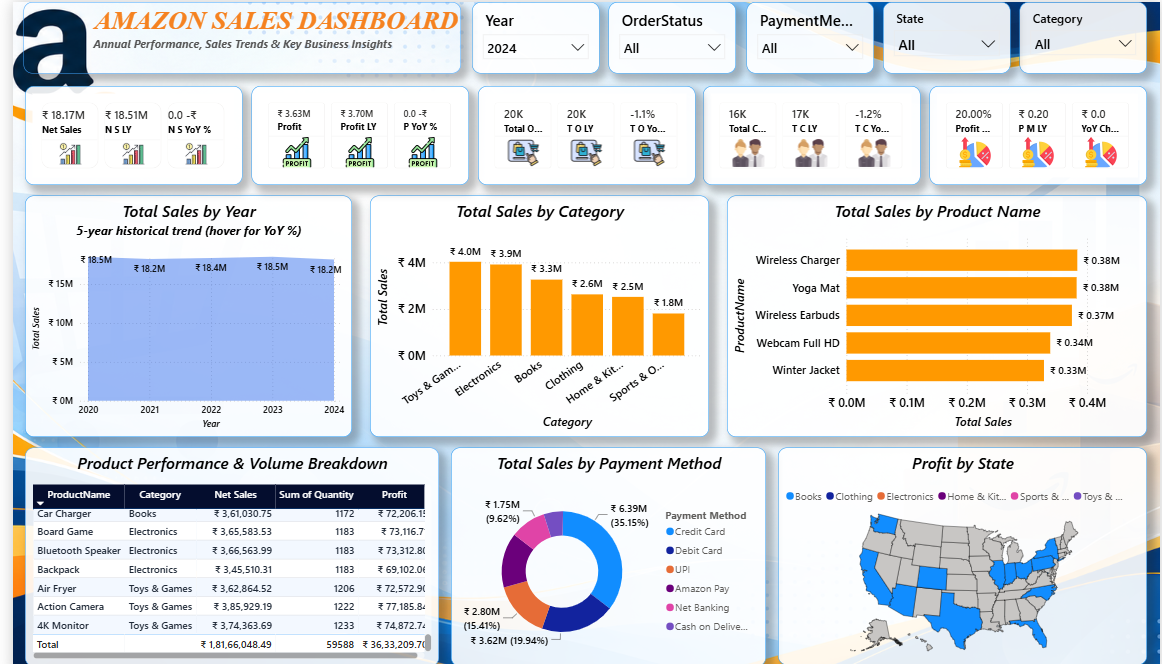

Layout of this report page (visuals, bound fields, positions):
{"tool":"powerbi","page":{"name":"Amazon Sales Dashboard","canvas":[1530,900],"ordinal":0},"visuals":[{"type":"shape","title":"AMAZON SALES DASHBOARD","box":[14,0,583,95],"z":0,"group":"g1"},{"type":"slicer","fields":{"Values":["DimDate.Year"]},"box":[612,0,170,95],"z":0},{"type":"slicer","fields":{"Values":["DimOrderStatus.OrderStatus"]},"box":[794.5,0,170,95],"z":1000},{"type":"slicer","fields":{"Values":["Products.Category"]},"box":[1342,0,170,95],"z":2000},{"type":"slicer","fields":{"Values":["DimPayment.PaymentMethod"]},"box":[977,0,170,95],"z":3000},{"type":"slicer","fields":{"Values":["Customers.State"]},"box":[1159.5,0,170,95],"z":4000},{"type":"areaChart","title":"Total Sales by Year","fields":{"Category":["DimDate.Year"],"Y":["Orders.Total Sales"]},"box":[16,258,436,322],"z":5000},{"type":"clusteredColumnChart","fields":{"Category":["Products.Category"],"Y":["Orders.Total Sales"]},"box":[476,258,452,322],"z":6000},{"type":"clusteredBarChart","title":"Total Sales by Product Name","fields":{"Category":["Products.ProductName"],"Y":["Orders.Total Sales"]},"box":[952,258,560,322],"z":7000},{"type":"shapeMap","title":"Profit by State","fields":{"Category":["Customers.State"],"Series":["Products.Category"]},"box":[1020,594,492,290],"z":8000},{"type":"tableEx","title":"Product Performance & Volume Breakdown","fields":{"Values":["Products.ProductName","Products.Category","Orders.Net Sales","Sum(Orders.Quantity)","Orders.Profit"]},"box":[16,594,552,292],"z":9000},{"type":"donutChart","title":"Total Sales by Payment Method","fields":{"Category":["DimPayment.PaymentMethod"],"Y":["Orders.Total Sales"]},"box":[584,594,420,292],"z":10000},{"type":"group","id":"g1","title":"Group 7","box":[14,0,583,95],"z":11000},{"type":"cardVisual","fields":{"Data":["Orders.Net Sales","Customers.Net Sales LY","Customers.Net Sales YoY %"]},"box":[16,112,290,132],"z":17000},{"type":"cardVisual","fields":{"Data":["Orders.Total Customers","Customers.Total Customers LY","Customers.Total Customers YoY %"]},"box":[920.5,112,290,132],"z":18000},{"type":"cardVisual","fields":{"Data":["Orders.Profit Margin %","Customers.Profit Margin LY","Customers.Profit Margin YoY Change"]},"box":[1222,112,290,132],"z":19000},{"type":"cardVisual","fields":{"Data":["Orders.Profit","Customers.Profit LY","Customers.Profit YoY %"]},"box":[317.5,112,290,132],"z":20000},{"type":"cardVisual","fields":{"Data":["Orders.Total Orders","Customers.Total Orders LY","Customers.Total Orders YoY %"]},"box":[619,112,290,132],"z":21000}]}

Visuals, with their boxes in screenshot pixels (x1, y1, x2, y2), scaled from the page's 1530x900 canvas onto the 1162x664 screenshot:
"AMAZON SALES DASHBOARD" shape: locate(11, 0, 453, 70)
slicer - DimDate.Year: locate(465, 0, 594, 70)
slicer - DimOrderStatus.OrderStatus: locate(603, 0, 733, 70)
slicer - Products.Category: locate(1019, 0, 1148, 70)
slicer - DimPayment.PaymentMethod: locate(742, 0, 871, 70)
slicer - Customers.State: locate(881, 0, 1010, 70)
"Total Sales by Year" areaChart: locate(12, 190, 343, 428)
clusteredColumnChart - Products.Category x Orders.Total Sales: locate(362, 190, 705, 428)
"Total Sales by Product Name" clusteredBarChart: locate(723, 190, 1148, 428)
"Profit by State" shapeMap: locate(775, 438, 1148, 652)
"Product Performance & Volume Breakdown" tableEx: locate(12, 438, 431, 654)
"Total Sales by Payment Method" donutChart: locate(444, 438, 763, 654)
"Group 7" group: locate(11, 0, 453, 70)
cardVisual - Orders.Net Sales x Customers.Net Sales LY: locate(12, 83, 232, 180)
cardVisual - Orders.Total Customers x Customers.Total Customers LY: locate(699, 83, 919, 180)
cardVisual - Orders.Profit Margin % x Customers.Profit Margin LY: locate(928, 83, 1148, 180)
cardVisual - Orders.Profit x Customers.Profit LY: locate(241, 83, 461, 180)
cardVisual - Orders.Total Orders x Customers.Total Orders LY: locate(470, 83, 690, 180)
